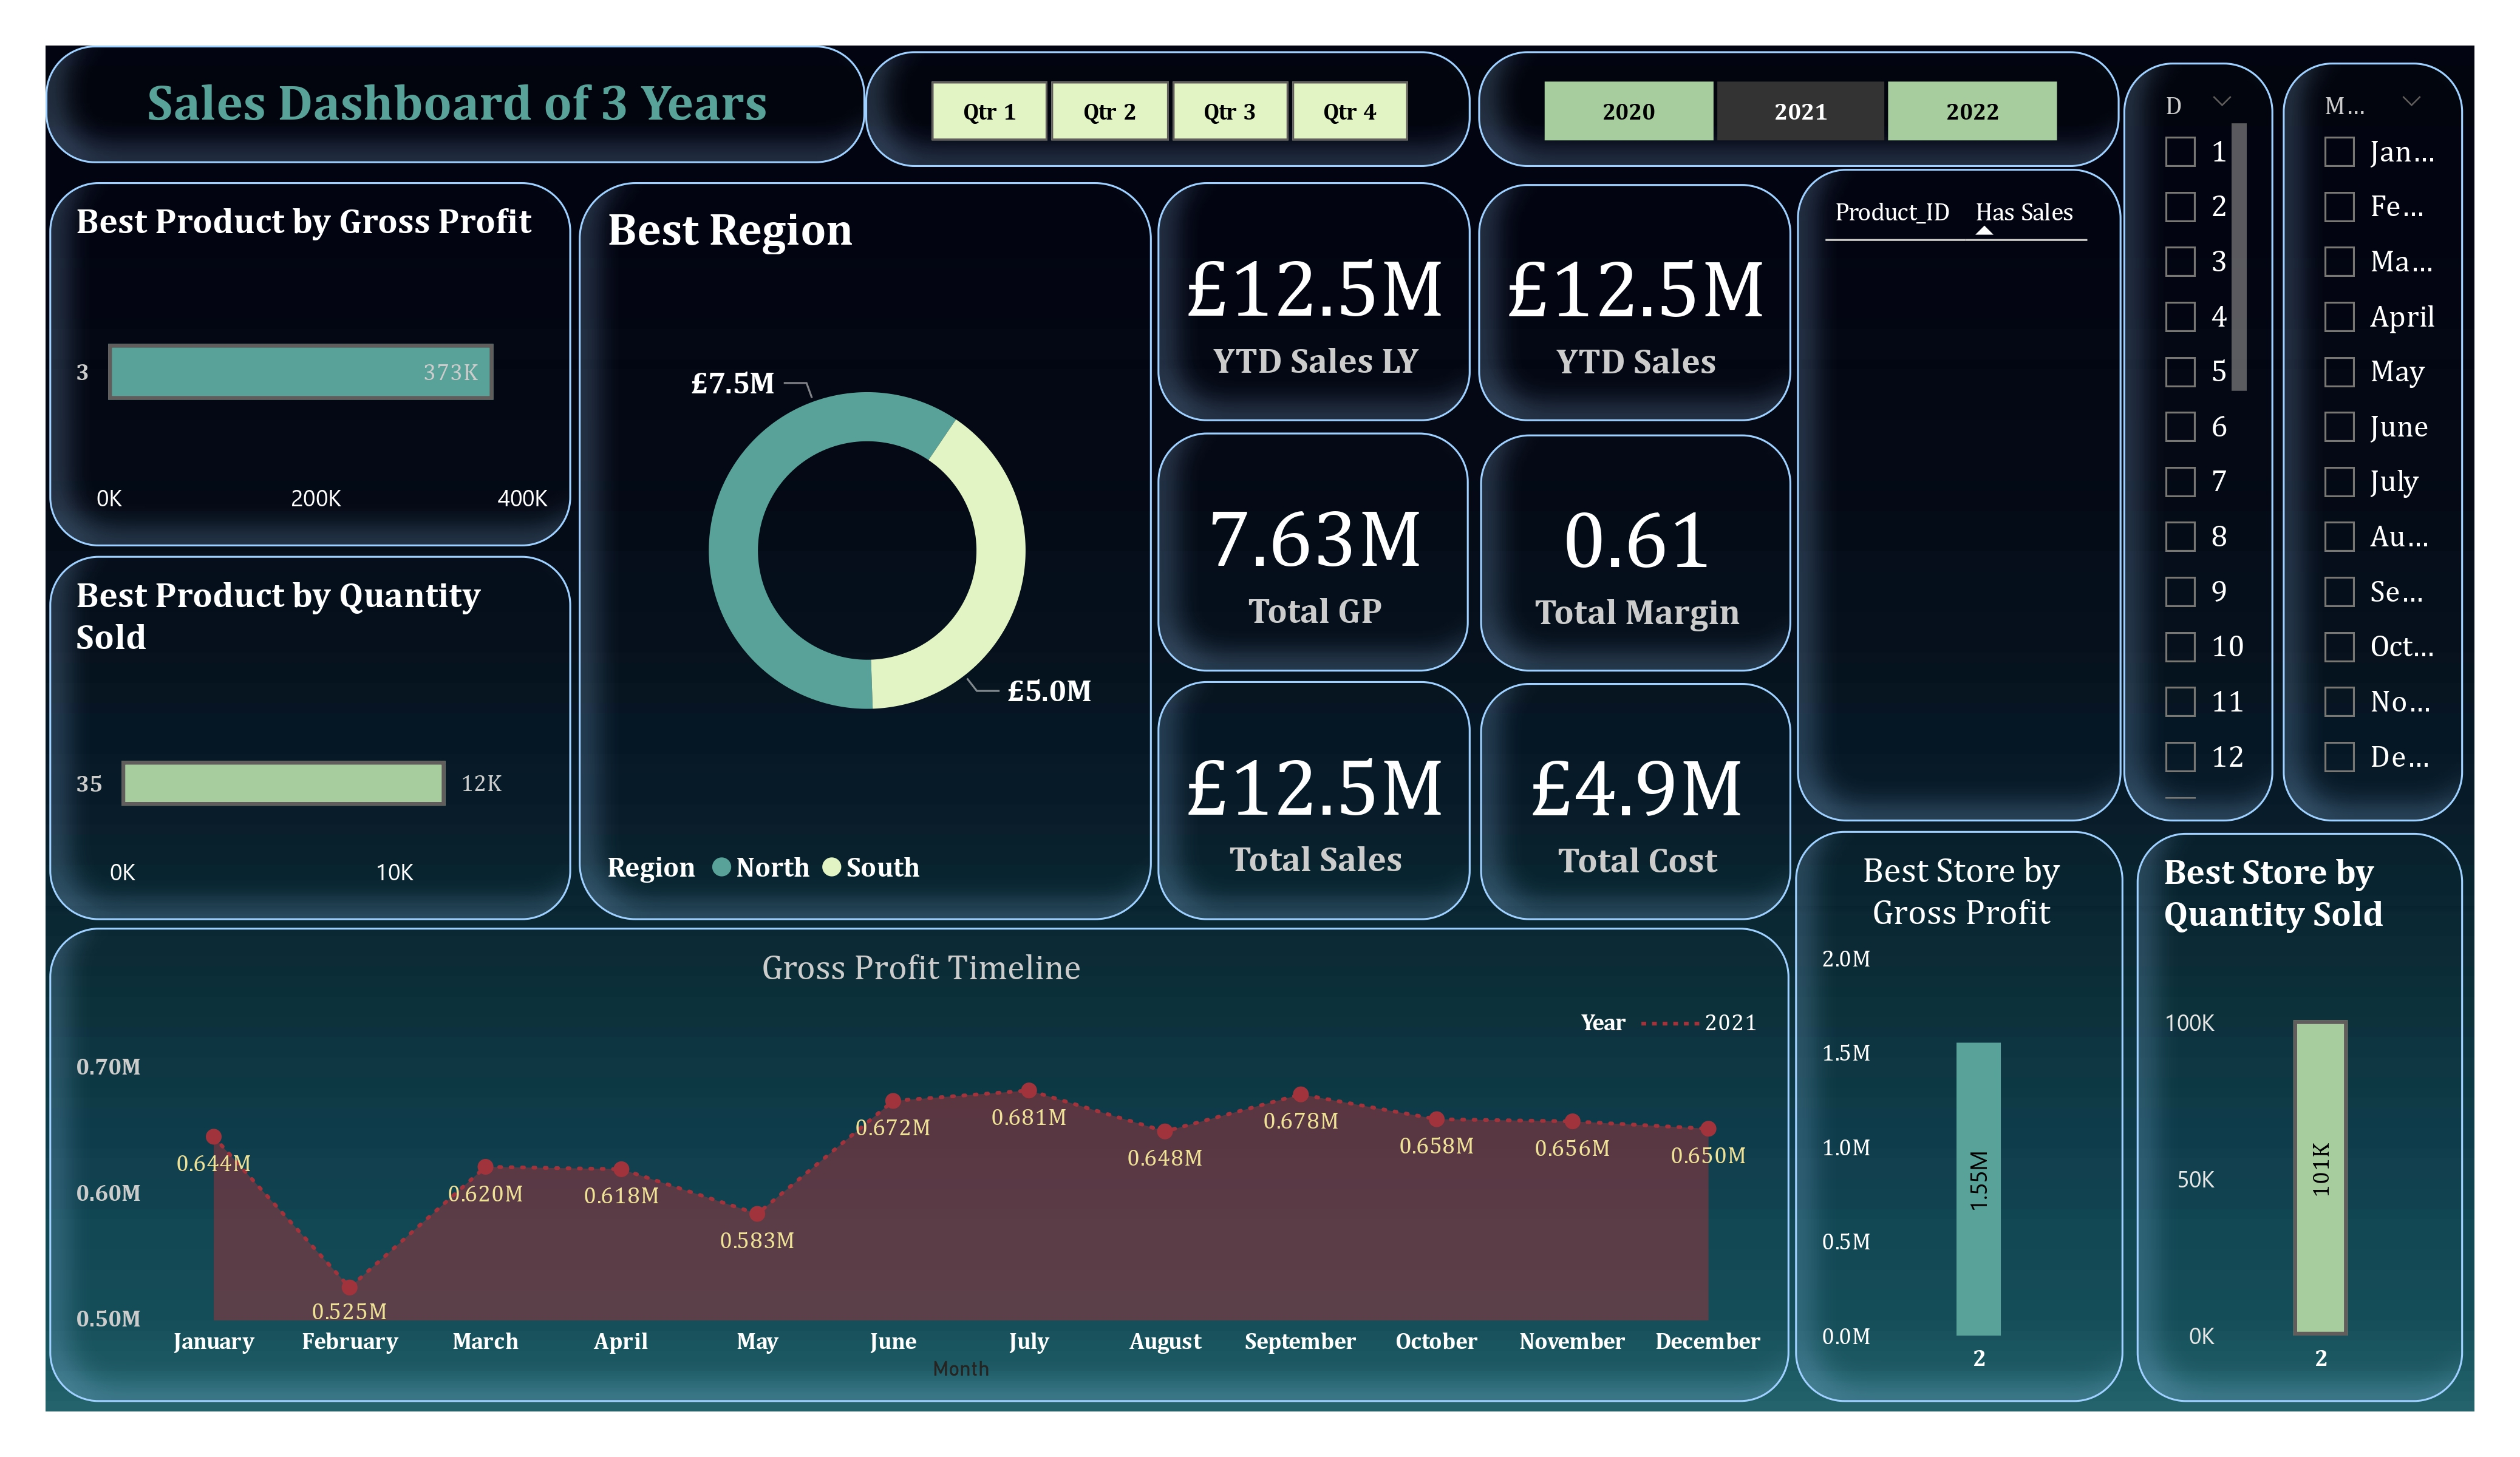

The page's visual inventory and layout, read from the dashboard file:
{"tool":"powerbi","page":{"name":"Page 1","canvas":[1280,720],"ordinal":0},"visuals":[{"type":"slicer","fields":{"Values":["Calendar.Date.Variation.Date Hierarchy.Year"]},"box":[755.4,3.4,337.8,60.1],"z":0},{"type":"card","fields":{"Values":["Sales.Sales Value"]},"box":[585.8,335.1,164.9,125.7],"z":1000},{"type":"card","fields":{"Values":["Sales.GP Value"]},"box":[585.8,204.1,164.2,125.7],"z":2000},{"type":"card","fields":{"Values":["Sales.Margin Value"]},"box":[756.1,204.7,163.5,125],"z":3000},{"type":"areaChart","title":"Gross Profit Timeline","fields":{"Y":["Sales.GP Value"],"Category":["Calendar.Date.Variation.Date Hierarchy.Month"],"Series":["Calendar.Date.Variation.Date Hierarchy.Year"]},"box":[2.4,464.9,916.9,250],"z":4000},{"type":"barChart","title":"Best Product by Quantity Sold","fields":{"Category":["Sales.Product_ID"],"Y":["Sum(Sales.Qty_Sold)"]},"box":[2.4,268.9,275,192],"z":5000},{"type":"donutChart","title":"Best Region","fields":{"Y":["Sales.Sales Value"],"Series":["Location.Region"]},"box":[281.2,71.9,301.6,389.1],"z":6000},{"type":"columnChart","title":"Best Store by Gross Profit","fields":{"Category":["Location.Location_ID"],"Y":["Sales.GP Value"]},"box":[922.3,414.2,173,300.7],"z":7000},{"type":"slicer","fields":{"Values":["Calendar.Date.Variation.Date Hierarchy.Quarter"]},"box":[431.8,3.4,318.9,60.1],"z":8000},{"type":"slicer","fields":{"Values":["Calendar.Date.Variation.Date Hierarchy.Month"]},"box":[1179.1,8.8,95.3,400],"z":9000},{"type":"columnChart","title":"Best Store by Quantity Sold","fields":{"Category":["Sales.Location_ID"],"Y":["Sum(Sales.Qty_Sold)"]},"box":[1102,414.9,172.3,300],"z":10000},{"type":"barChart","title":"Best Product by Gross Profit","fields":{"Category":["Sales.Product_ID"],"Y":["Sales.GP Value"]},"box":[2.4,71.7,275,192],"z":11000},{"type":"card","fields":{"Values":["Sales.Cost Value"]},"box":[756.1,336.5,163.5,125],"z":12000},{"type":"card","fields":{"Values":["Sales.YTD Sales"]},"box":[755.4,73,164.2,125],"z":13000},{"type":"tableEx","fields":{"Values":["Product.Product_ID","Product.Has Sales"]},"box":[922.5,65,171.2,343.8],"z":14000},{"type":"slicer","fields":{"Values":["Calendar.Date.Variation.Date Hierarchy.Day"]},"box":[1095.3,8.8,79.1,400],"z":15000},{"type":"card","fields":{"Values":["Sales.YTD Sales LY"]},"box":[585.8,72.3,164.9,125.7],"z":16000},{"type":"textbox","box":[0,0,431.9,62.3],"z":17000}]}

Visuals, with their boxes on the page's 1280x720 design canvas (x1, y1, x2, y2). These are canvas units, not pixel positions in the 2520x1457 screenshot, which may show the page scaled, cropped or inside an application window:
slicer - Calendar.Date.Variation.Date Hierarchy.Year: select_region(755, 3, 1093, 64)
card - Sales.Sales Value: select_region(586, 335, 751, 461)
card - Sales.GP Value: select_region(586, 204, 750, 330)
card - Sales.Margin Value: select_region(756, 205, 920, 330)
"Gross Profit Timeline" areaChart: select_region(2, 465, 919, 715)
"Best Product by Quantity Sold" barChart: select_region(2, 269, 277, 461)
"Best Region" donutChart: select_region(281, 72, 583, 461)
"Best Store by Gross Profit" columnChart: select_region(922, 414, 1095, 715)
slicer - Calendar.Date.Variation.Date Hierarchy.Quarter: select_region(432, 3, 751, 64)
slicer - Calendar.Date.Variation.Date Hierarchy.Month: select_region(1179, 9, 1274, 409)
"Best Store by Quantity Sold" columnChart: select_region(1102, 415, 1274, 715)
"Best Product by Gross Profit" barChart: select_region(2, 72, 277, 264)
card - Sales.Cost Value: select_region(756, 336, 920, 462)
card - Sales.YTD Sales: select_region(755, 73, 920, 198)
tableEx - Product.Product_ID x Product.Has Sales: select_region(922, 65, 1094, 409)
slicer - Calendar.Date.Variation.Date Hierarchy.Day: select_region(1095, 9, 1174, 409)
card - Sales.YTD Sales LY: select_region(586, 72, 751, 198)
textbox: select_region(0, 0, 432, 62)
